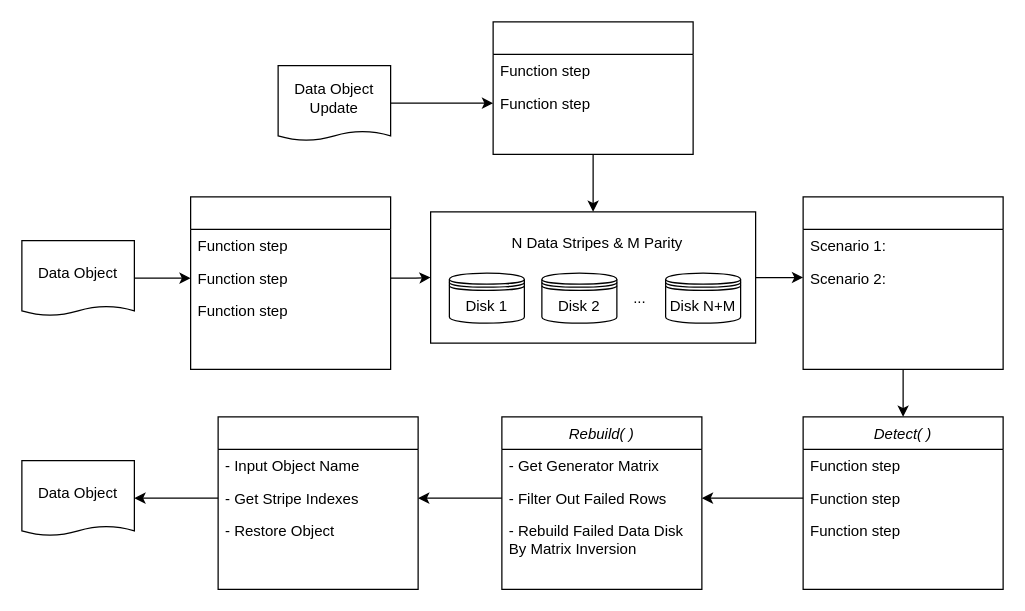
This 1025x611 diagram has some shape labels left out. Here are the shapes that lost their labels. From the top down, the box of each, then its label:
(492, 21, 693, 154): Update( )
(189, 196, 391, 369): Store( )
(802, 196, 1003, 369): Fail( )
(217, 416, 418, 589): Retrieve( )
